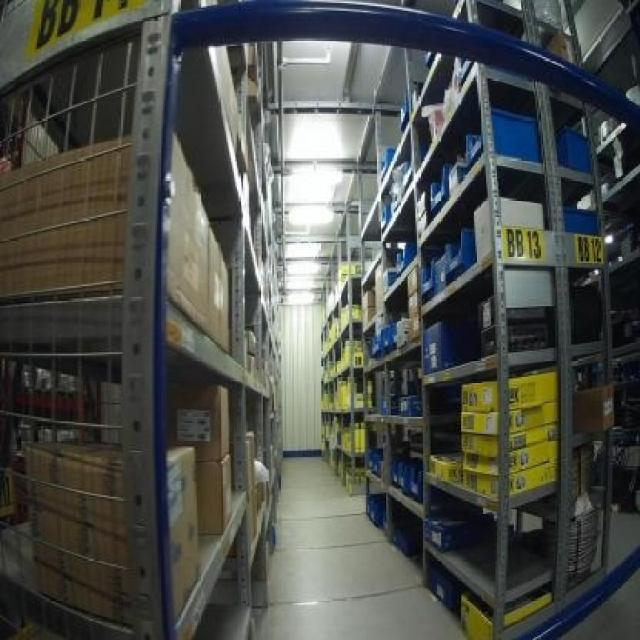pallets: (322, 48, 637, 637), (449, 0, 637, 111)
